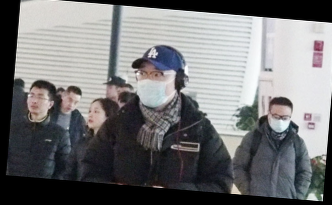with_mask: (133, 63, 174, 108), (269, 110, 291, 133)
without_mask: (25, 90, 47, 113), (86, 104, 106, 128), (60, 95, 79, 115)
